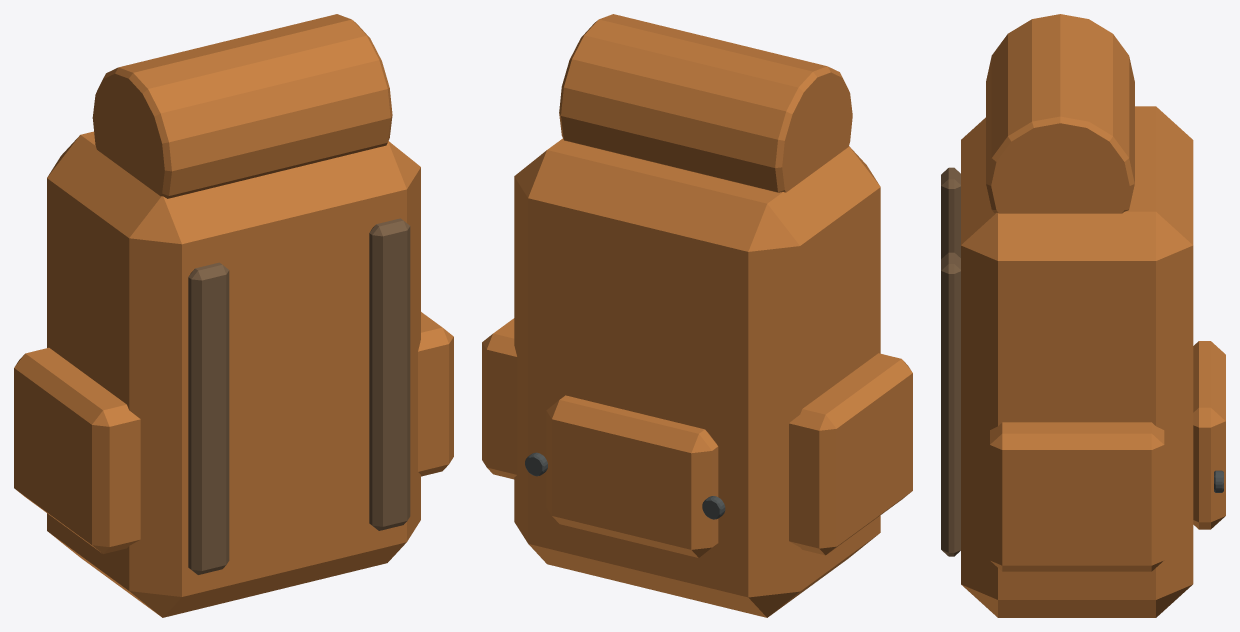
File: item_hiking_pack.glb
The picture shows the model from 3 angles, left to right: view 1: azimuth 30°, elevation 25°; view 2: azimuth 150°, elevation 25°; view 3: azimuth 270°, elevation 25°; orthographic projection. The views are drawn at different scales.
Visible parts, largest first — view 1: item_hiking_pack; view 2: item_hiking_pack; view 3: item_hiking_pack.
Part boxes in pixels (bbox=[...]): item_hiking_pack: bbox=[14, 14, 453, 617]; item_hiking_pack: bbox=[482, 14, 912, 617]; item_hiking_pack: bbox=[941, 14, 1225, 617].
Bounding box in the file's own units: 0.4836 × 0.6646 × 0.3429.
